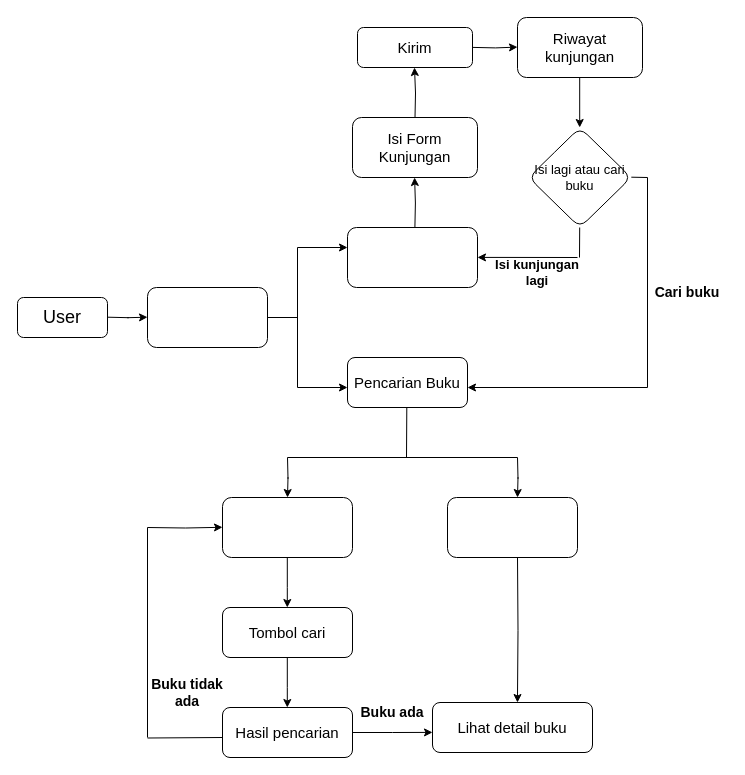
This 745x775 diagram has some shape labels left out. The shapes that lost their labels are listed below. From the top down, each one's centre as x and y in pixels, then its label:
At pixel 412 257: "Catatan Pengunjung".
At pixel 207 317: "Halaman utama website".
At pixel 287 527: "Cari kata kunci buku".
At pixel 512 527: "Rekomendasi buku secara acak".
